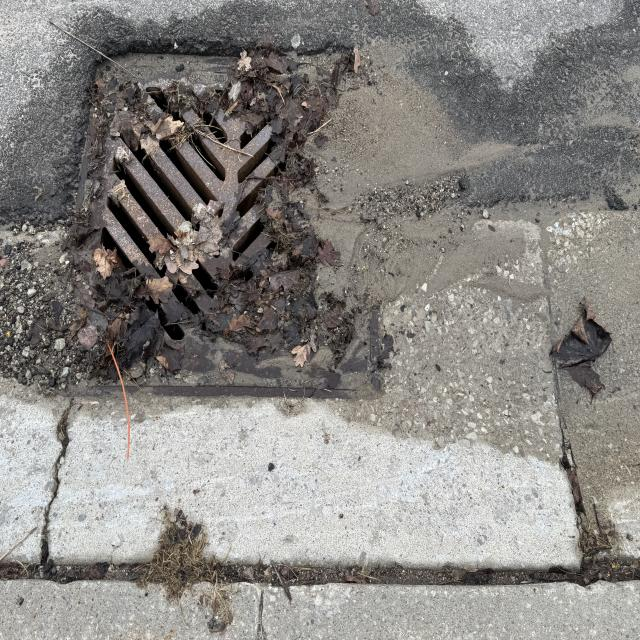Manhole: (92, 37, 380, 404)
